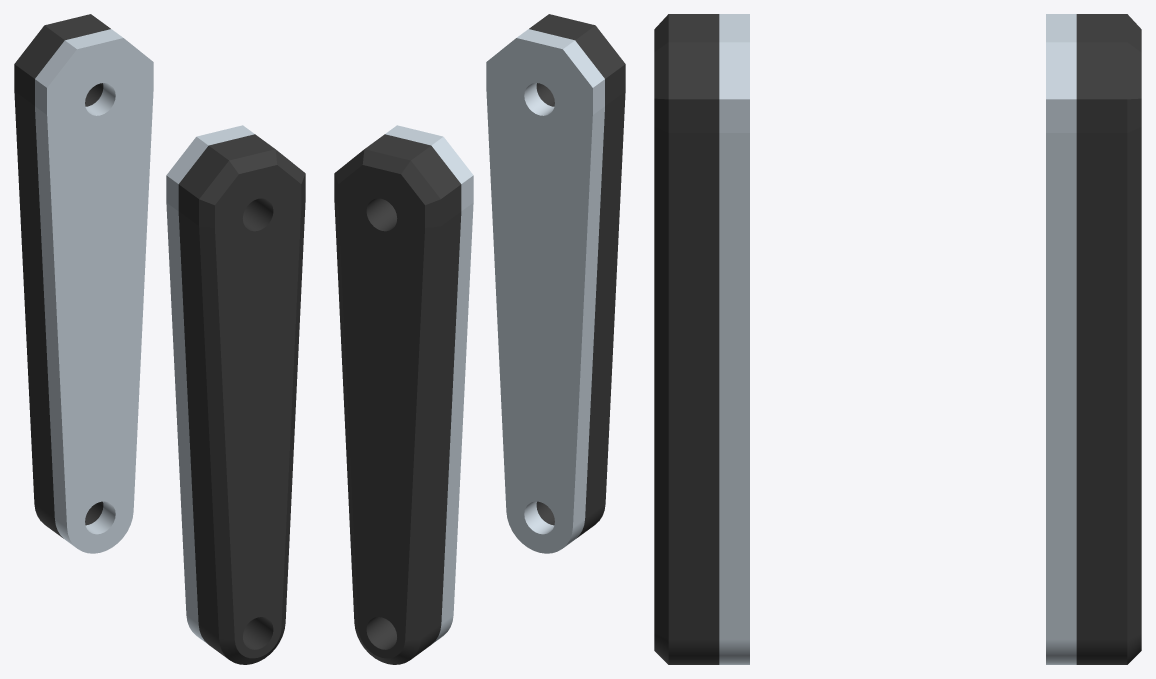
Rendered from Bottom Front Linkages.glb.
3 renders of one model, left to right at view 1: azimuth 30°, elevation 25°; view 2: azimuth 150°, elevation 25°; view 3: azimuth 270°, elevation 25°, orthographic. The views are drawn at different scales.
Parts seen in each view (by area): view 1: Bottom Front Linkages; view 2: Bottom Front Linkages; view 3: Bottom Front Linkages.
Part boxes in pixels (bbox=[...]): Bottom Front Linkages: bbox=[14, 14, 305, 664]; Bottom Front Linkages: bbox=[334, 14, 625, 664]; Bottom Front Linkages: bbox=[654, 14, 1141, 664].
Bounding box in the file's own units: 0.016 × 0.073 × 0.051.
